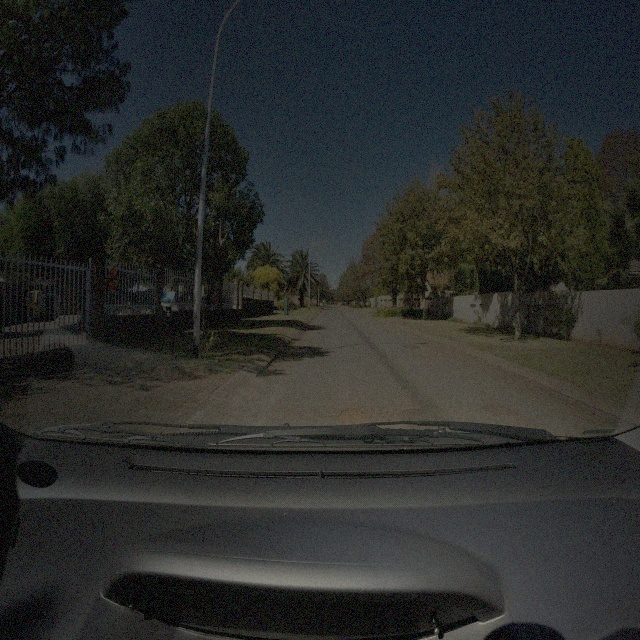pothole: (335, 406, 372, 429)
